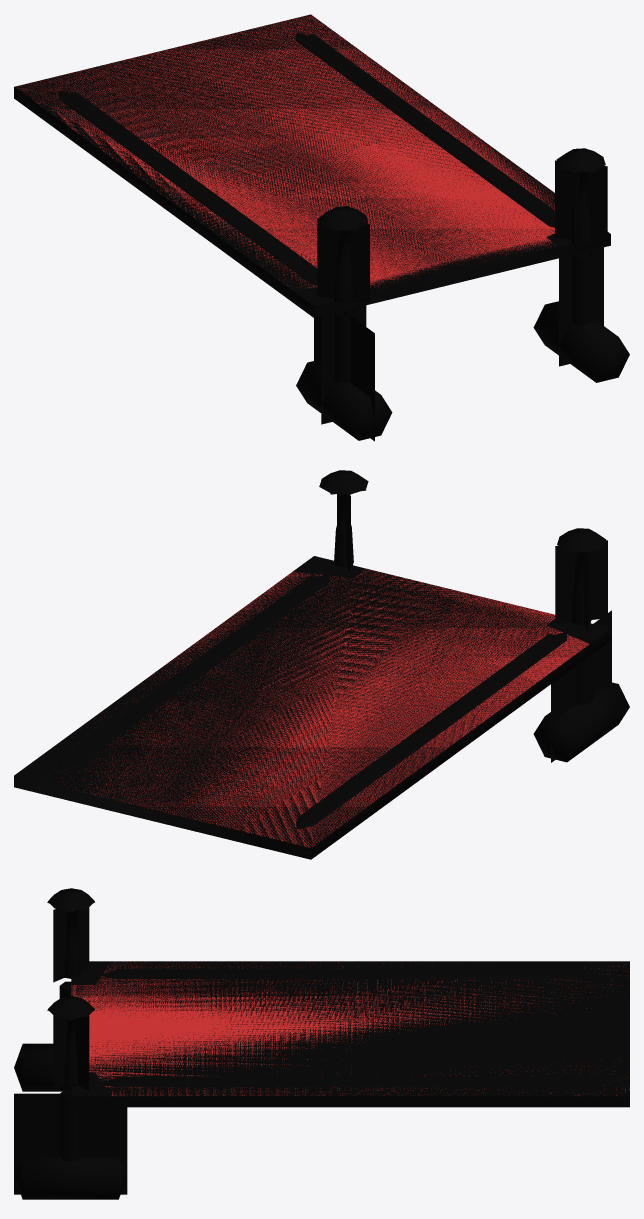
File: tr_ponton.max.fobj.obj
3 renders of one model, top to bottom at view 1: azimuth 30°, elevation 25°; view 2: azimuth 150°, elevation 25°; view 3: azimuth 270°, elevation 25°, orthographic. The views are drawn at different scales.
Parts seen in each view (by area): view 1: TR_ponton, TR_ponton_col, TR_ponton_LOD; view 2: TR_ponton, TR_ponton_LOD, TR_ponton_col; view 3: TR_ponton, TR_ponton_LOD, TR_ponton_col.
Boxes of the visible parts, x1,y1,x2,y2 form: TR_ponton: [14, 14, 629, 440]; TR_ponton_col: [18, 14, 555, 288]; TR_ponton_LOD: [17, 14, 610, 441]; TR_ponton: [14, 470, 629, 859]; TR_ponton_LOD: [14, 472, 611, 859]; TR_ponton_col: [69, 569, 589, 847]; TR_ponton: [14, 888, 629, 1199]; TR_ponton_LOD: [14, 890, 629, 1194]; TR_ponton_col: [71, 961, 629, 1095].
Size of the model in its own units: 800 by 543 by 1544.
